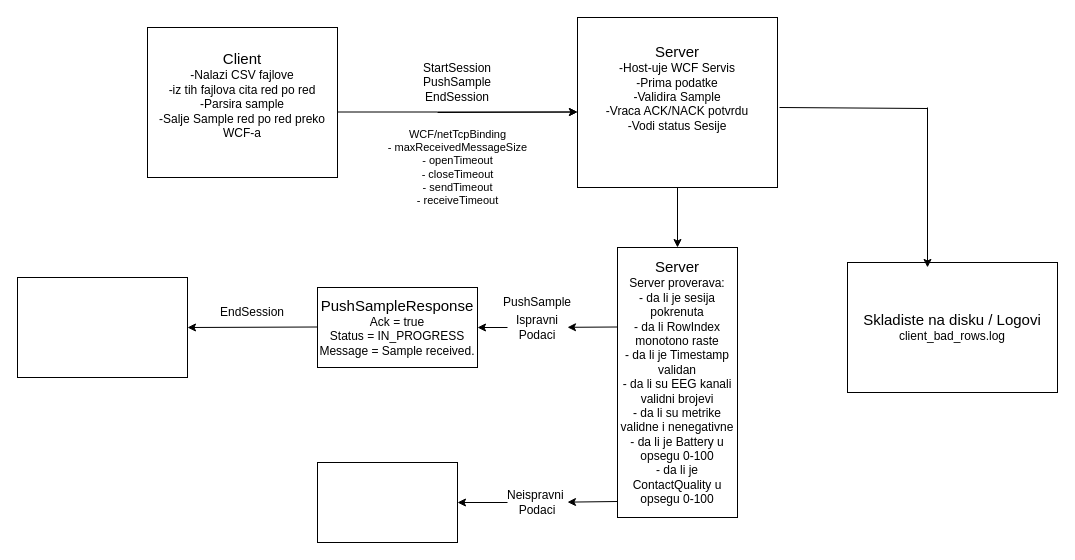
Some shapes in this 1075 by 560 pixel diagram are drawn without their labels. The shapes that lost their labels are listed below. From the top down, each one's centre as x and y in pixels, then its label:
At pixel 102 327: "EndSessionResponse Ack = true Status = COMPLETED Message = Session completed.".
At pixel 387 502: "ValidationFault || FormatFault".
